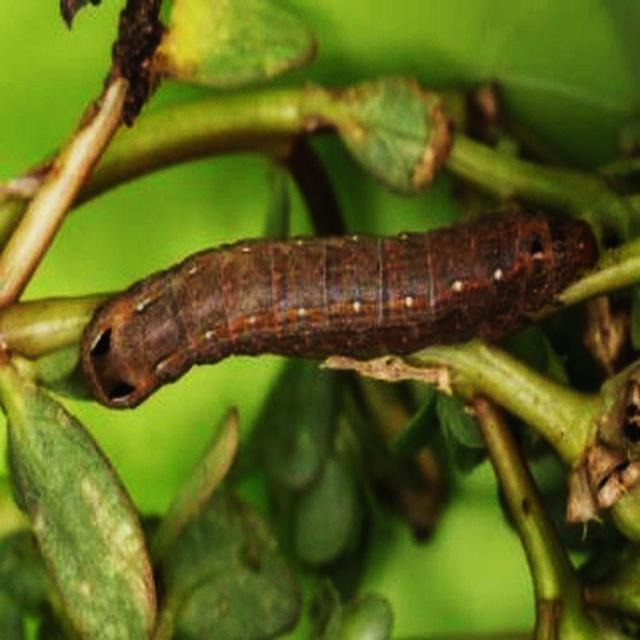gusano_cogollero: (74, 196, 603, 416)
